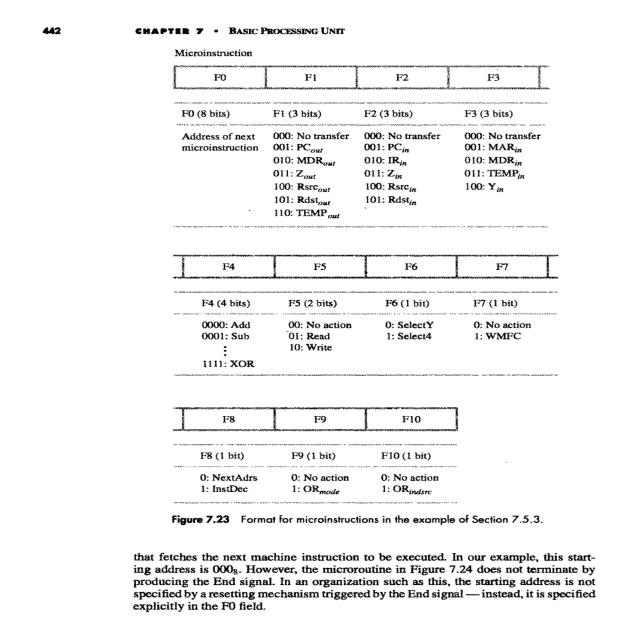diagram: (150, 36, 572, 529)
